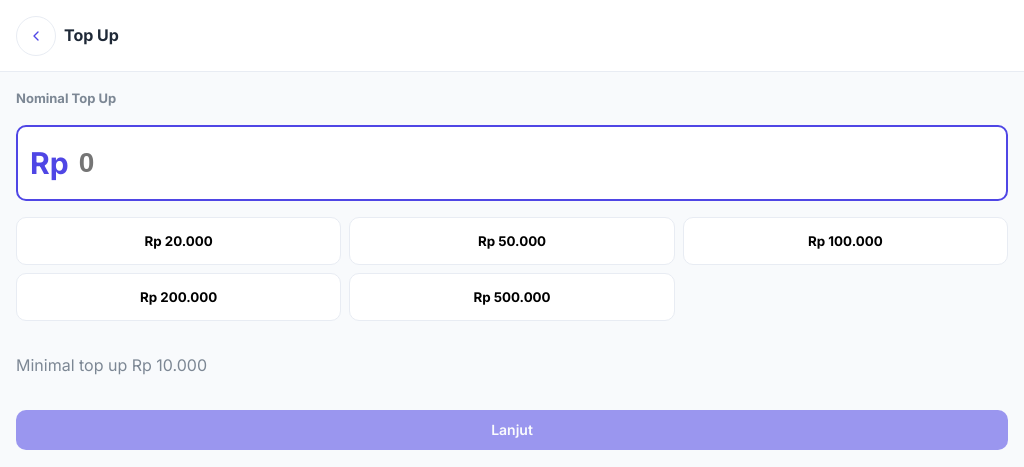
Test: TopUp (4C) › accepts custom amount
Type "75000" into the field labelled "Nominal Top Up".
click(535, 163); type("75000")  # box x1=77 y1=146 x2=994 y2=180
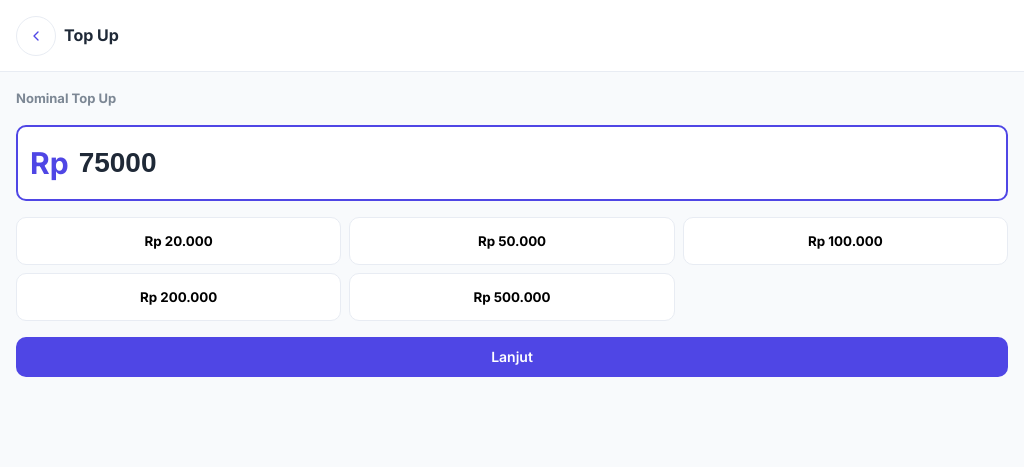
Click the button "Lanjut".
click(512, 357)  # box x1=16 y1=337 x2=1008 y2=377
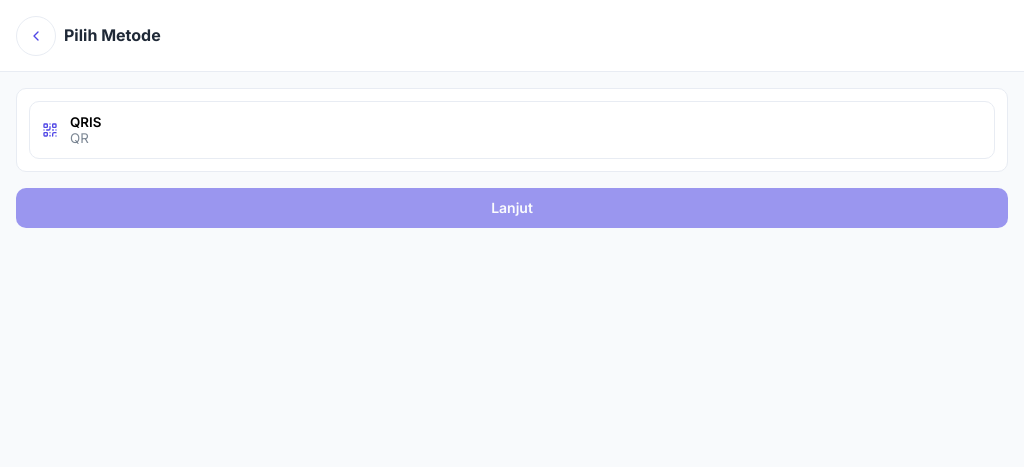
Expected: the heading "Pilih Metode" is shown, x1=64 y1=25 x2=161 y2=45
